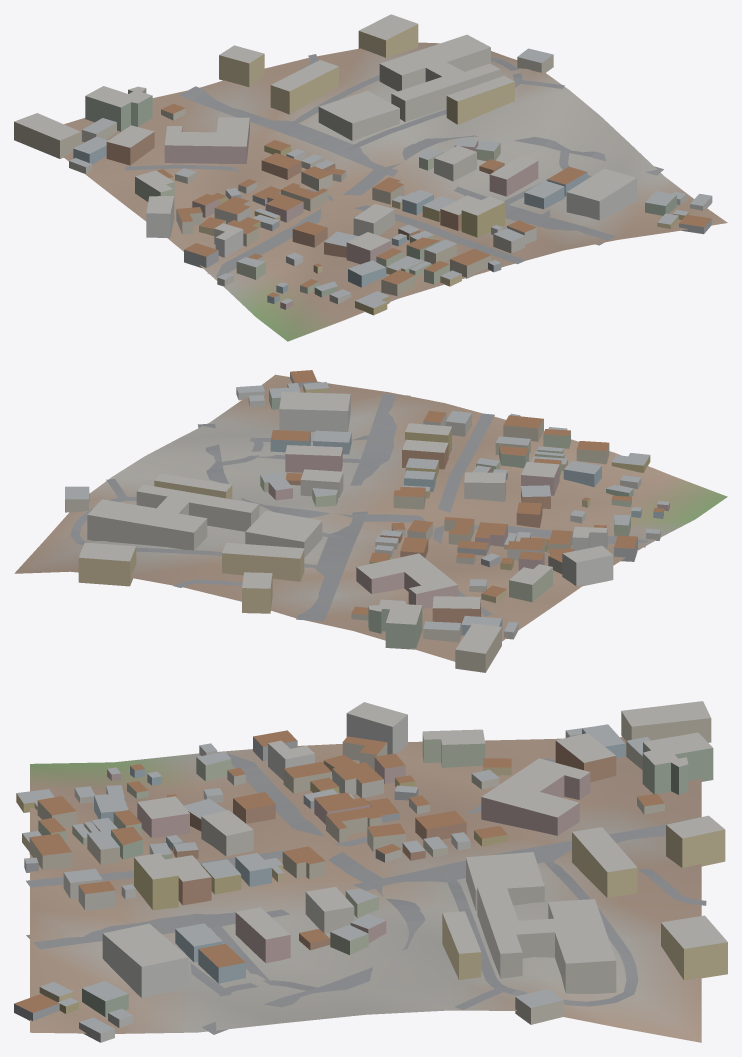
3 renders of one model, top to bottom at view 1: azimuth 30°, elevation 25°; view 2: azimuth 150°, elevation 25°; view 3: azimuth 270°, elevation 25°, orthographic. The views are drawn at different scales.
Parts seen in each view (by area): view 1: Lo; view 2: Lo; view 3: Lo.
Part boxes in pixels (box(x1,y1,x2,y2)): Lo: box(14, 14, 727, 341); Lo: box(14, 370, 727, 672); Lo: box(14, 701, 727, 1042).
Size of the model in its own units: 276 by 29.27 by 272.
